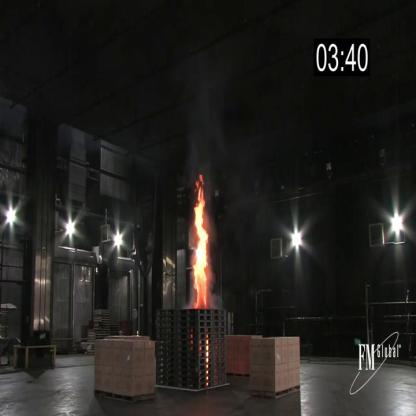fire: (190, 170, 212, 314)
